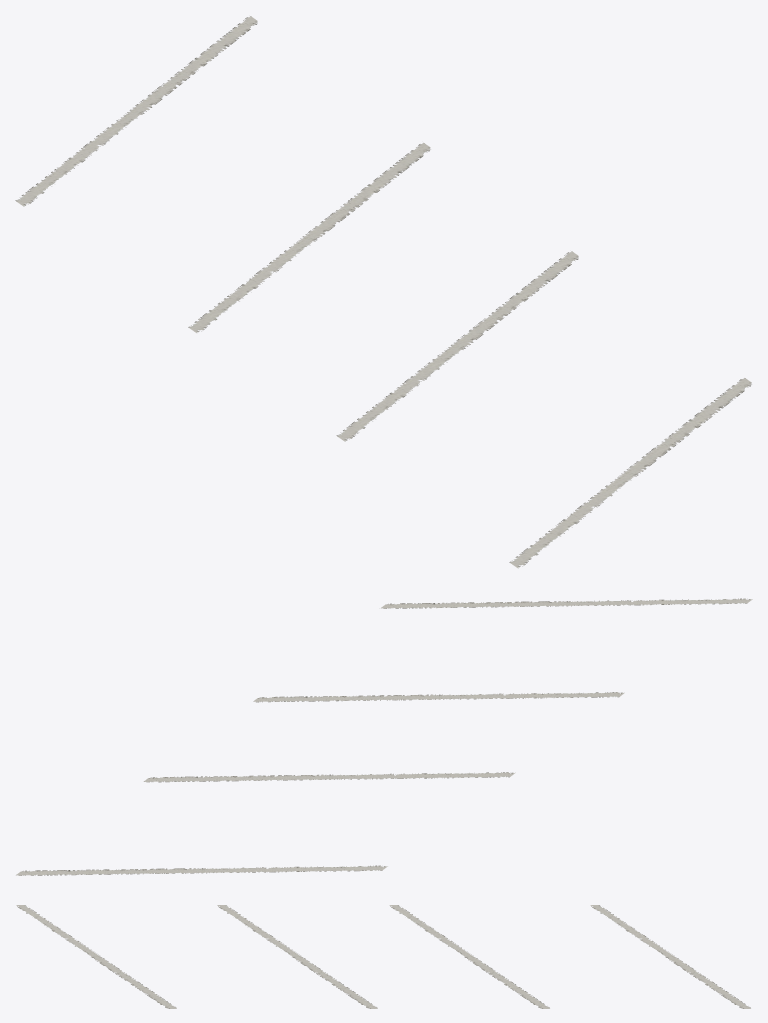
Rendered from Park-07.fbx.
3 renders of one model, top to bottom at view 1: azimuth 30°, elevation 25°; view 2: azimuth 150°, elevation 25°; view 3: azimuth 270°, elevation 25°, orthographic. The views are drawn at different scales.
Parts seen in each view (by area): view 1: Park-07; view 2: Park-07; view 3: Park-07.
Part boxes in pixels (x1=…): Park-07: x1=15, y1=16, x2=751, y2=568; Park-07: x1=16, y1=598, x2=752, y2=875; Park-07: x1=16, y1=905, x2=750, y2=1008.
Bounding box in the file's own units: 5.8 × 0 × 17.47.
